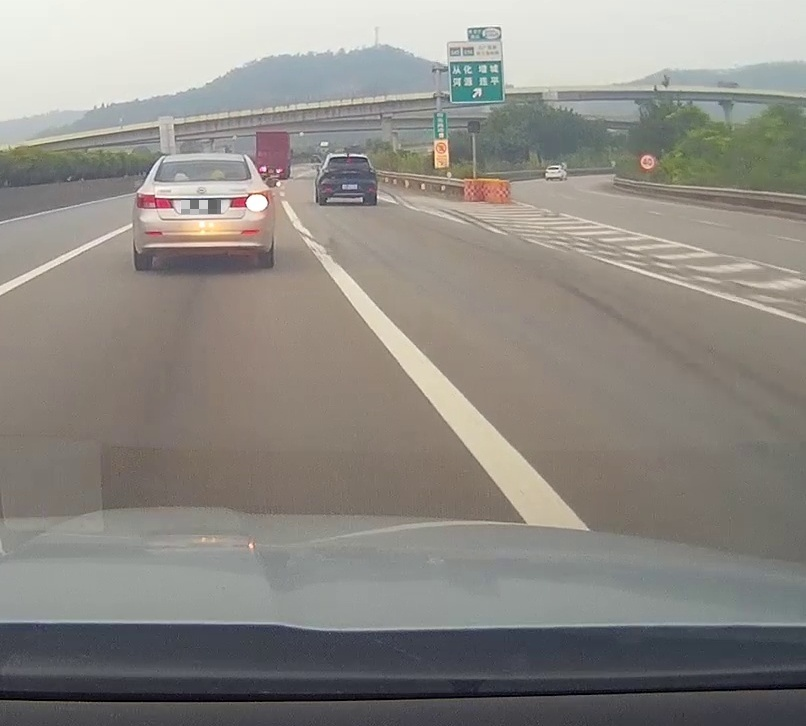L_light: (136, 192, 174, 210), (324, 167, 337, 172)
R_light: (230, 193, 269, 208), (364, 168, 375, 173)
T_light: (197, 160, 213, 165), (345, 156, 351, 159)
day-no: (318, 153, 377, 205)
day-right: (132, 153, 272, 272)
plate_1: (181, 200, 221, 214)
